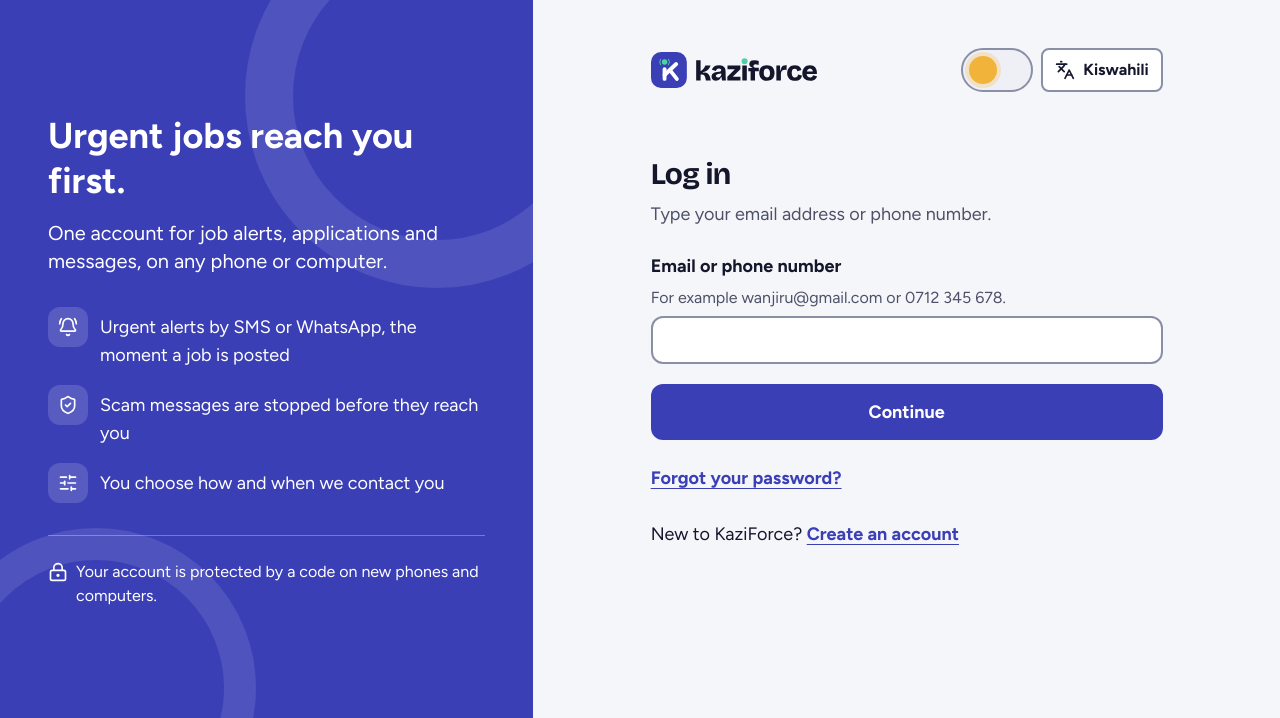
Test: Log in › a phone number works; two wrong passwords suggest a new one
Type "0712345678" into the field labelled "Email or phone number" at (907, 340), box [651,316,1163,364]
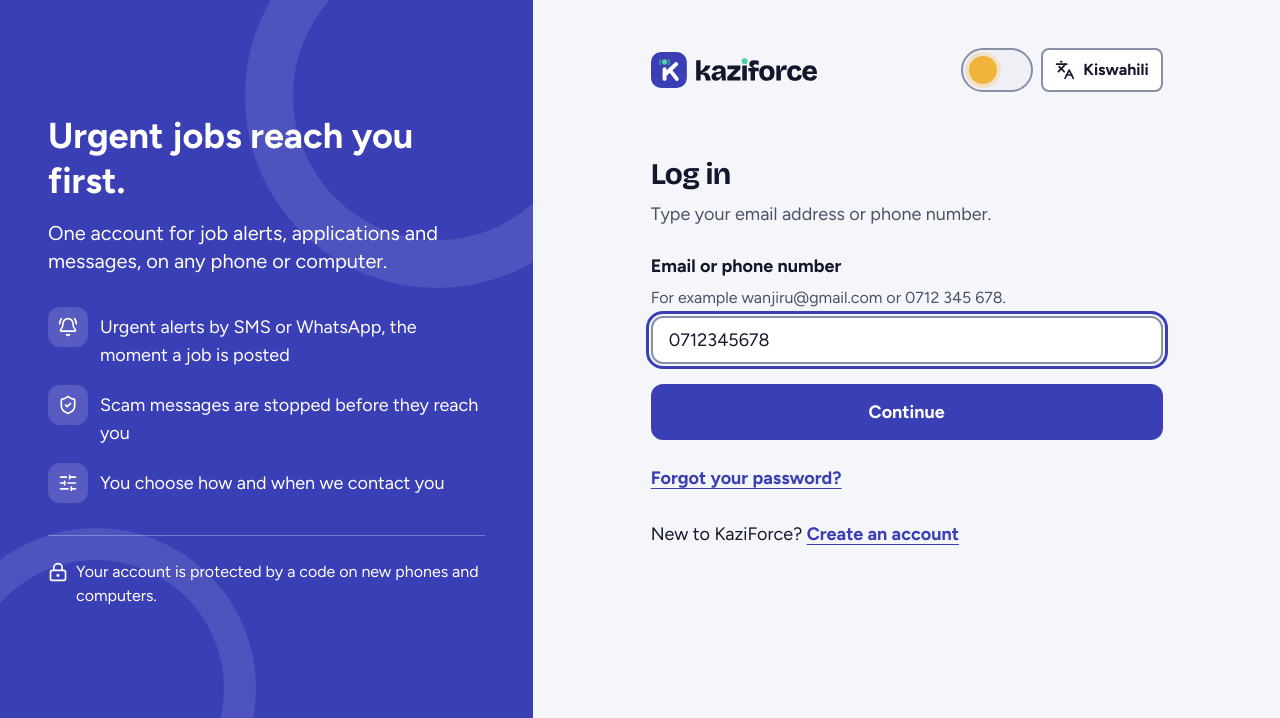
Click the button "Continue" at (907, 412), box [651,384,1163,440]
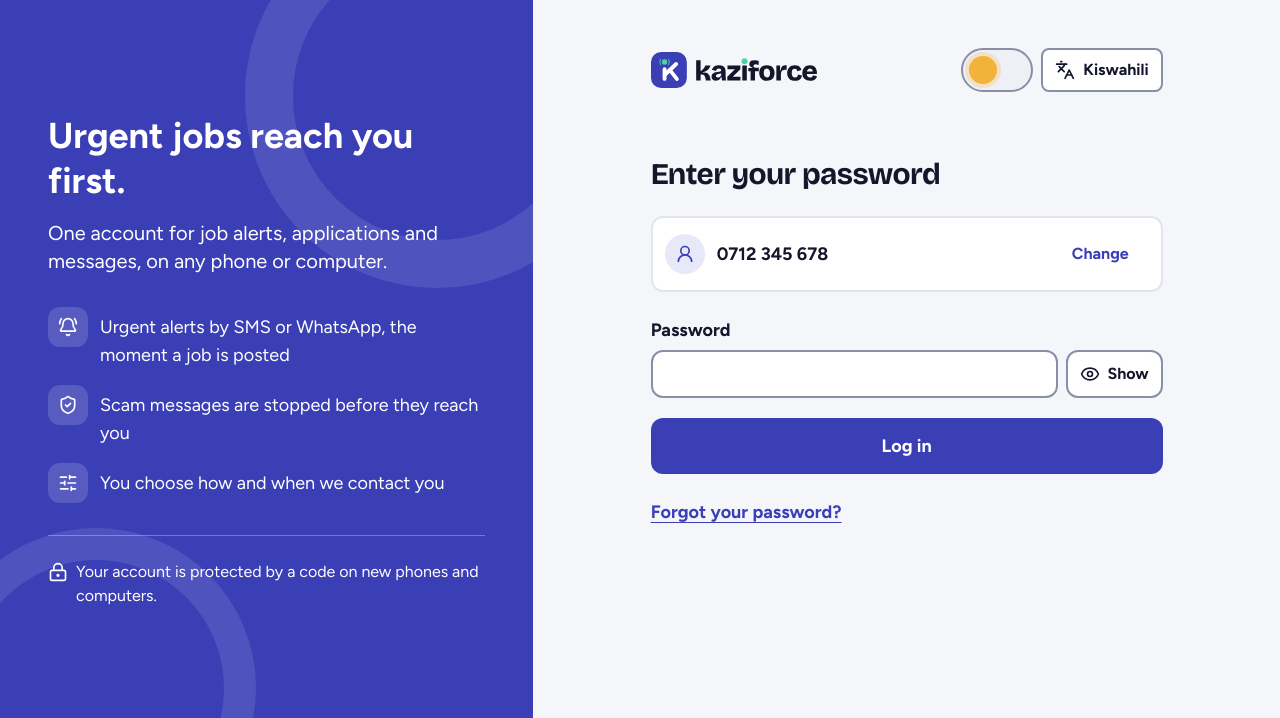
Expected: the text "0712 345 678" is shown, [717,243,828,265]
Expected: the heading "Enter your password" is shown, [651,156,940,192]
Type "not-right" into the password field labelled "Password" at (854, 374), box [651,350,1058,398]
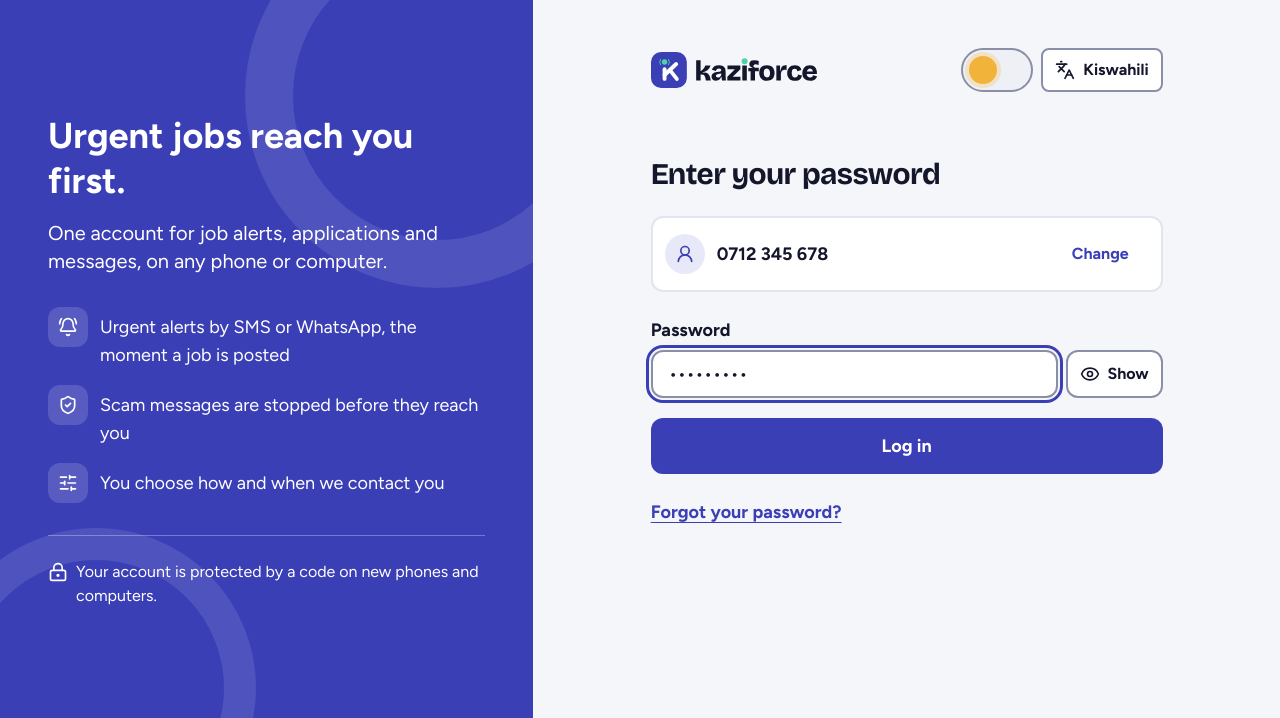
Click the button "Log in" at (907, 446), box [651,418,1163,474]
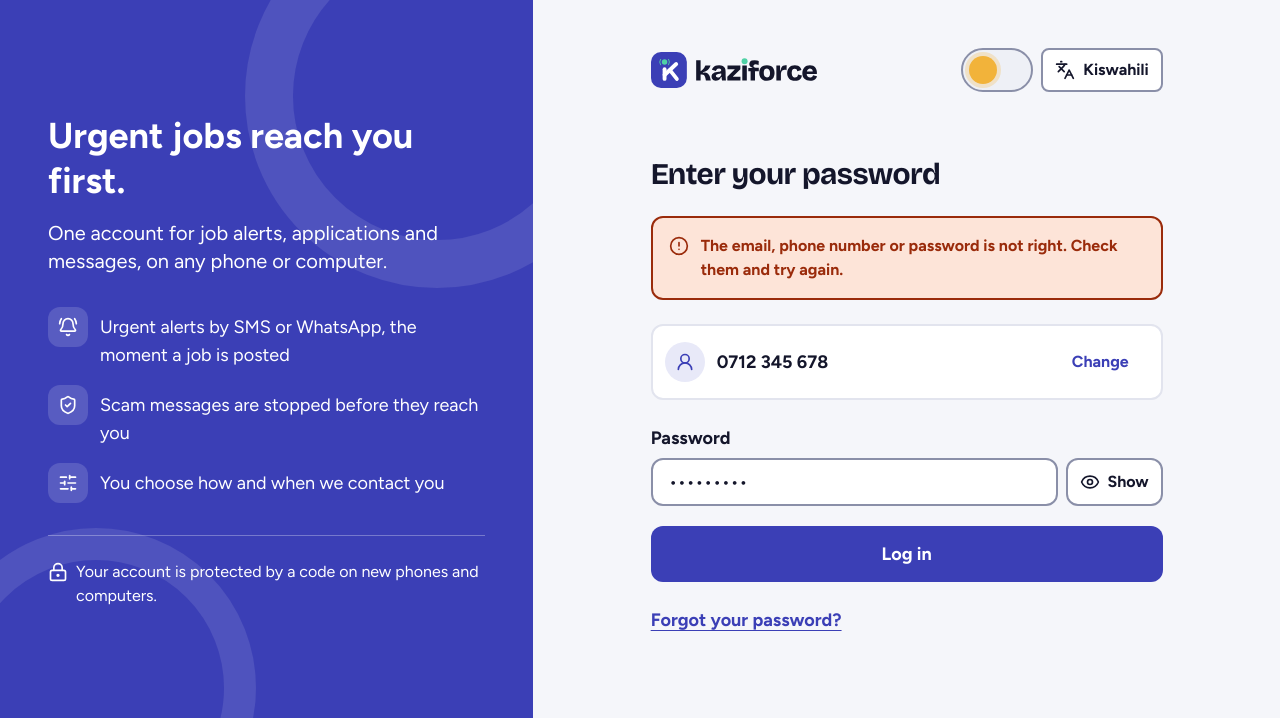
Expected: the text "Not right twice" is not shown
Expected: the message shows "The email, phone number or password is not right.", [701,236,1118,279]
Click the button "Log in" at (907, 554), box [651,526,1163,582]
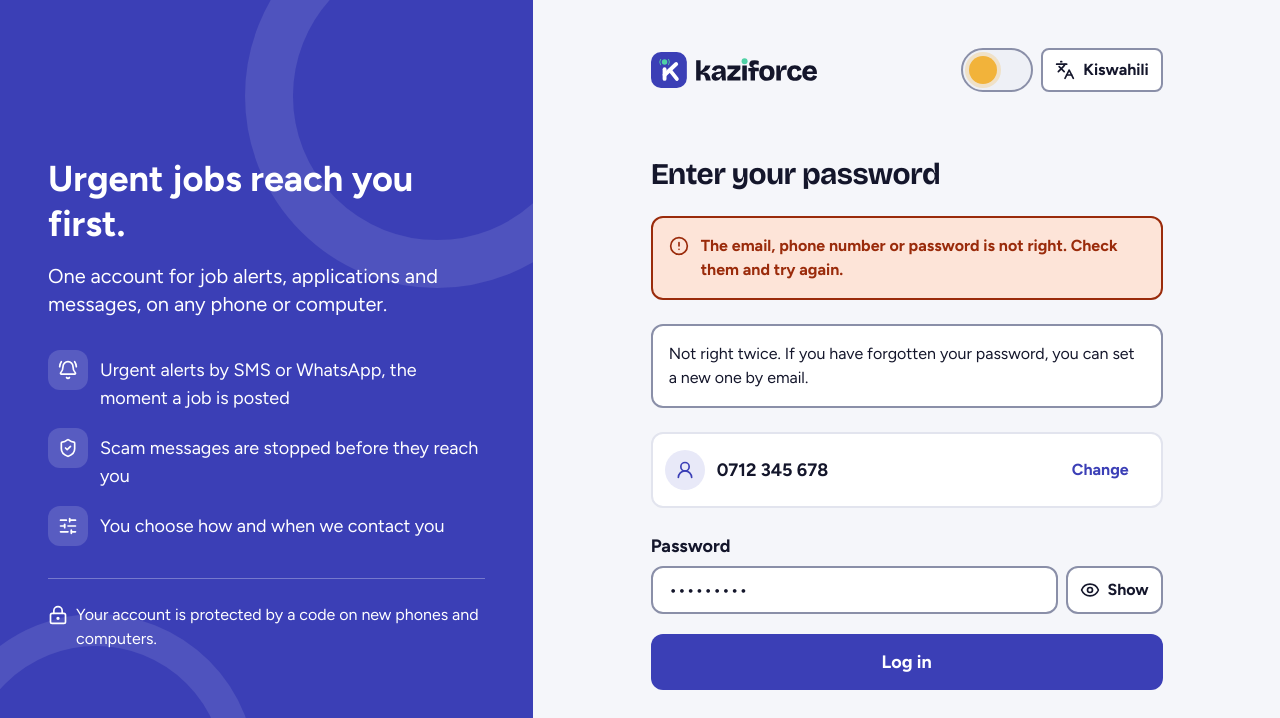
Expected: the text "Not right twice" is shown, [669,344,1135,387]
